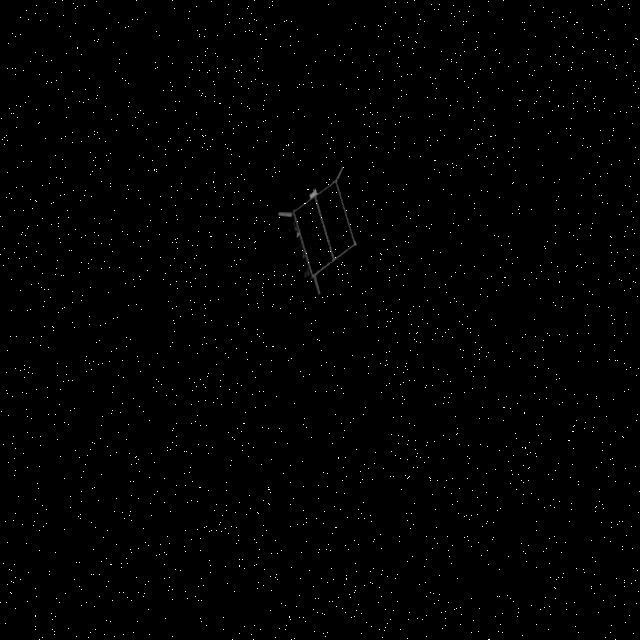medium_debris: (270, 160, 378, 298)
